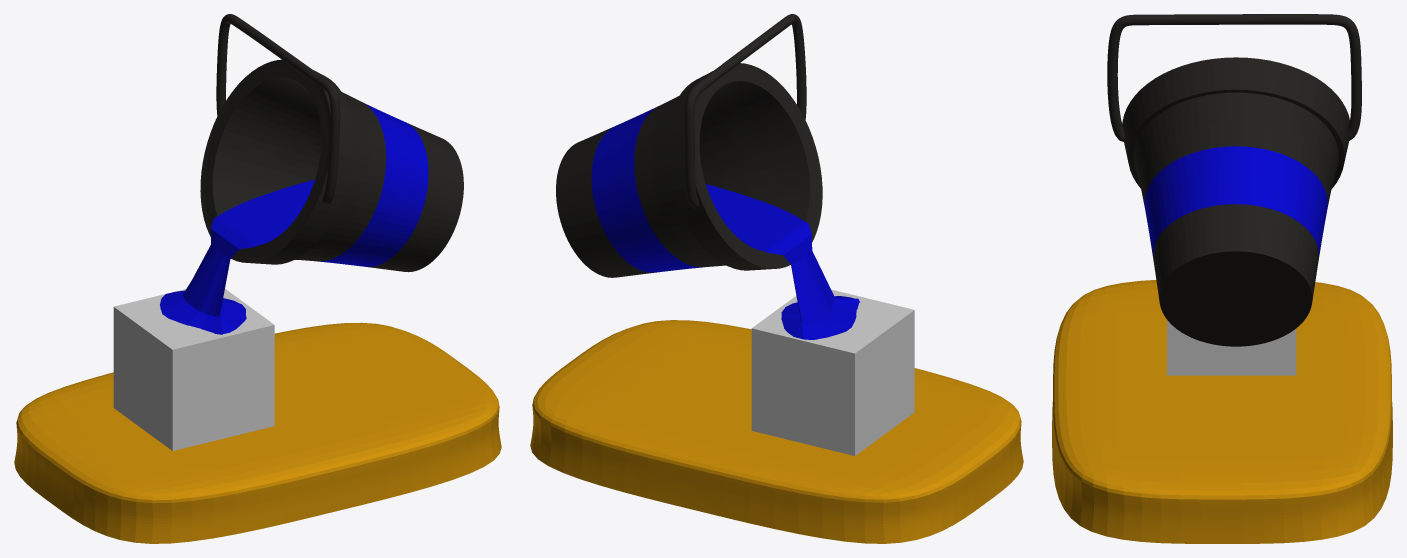
Rendered from fill_blue_btn.obj.
3 renders of one model, left to right at view 1: azimuth 30°, elevation 25°; view 2: azimuth 150°, elevation 25°; view 3: azimuth 270°, elevation 25°, orthographic. The views are drawn at different scales.
Visible parts, largest first — view 1: Cube, Cylinder, Cube.001, Cylinder.001; view 2: Cube, Cylinder, Cube.001, Cylinder.001; view 3: Cube, Cylinder, Cube.001.
Boxes of the visible parts, x1=… form: Cube: x1=14, y1=322, x2=501, y2=543; Cylinder: x1=200, y1=14, x2=463, y2=272; Cube.001: x1=113, y1=289, x2=274, y2=450; Cylinder.001: x1=160, y1=179, x2=314, y2=334; Cube: x1=530, y1=320, x2=1023, y2=543; Cylinder: x1=556, y1=14, x2=822, y2=277; Cube.001: x1=751, y1=289, x2=914, y2=455; Cylinder.001: x1=706, y1=184, x2=860, y2=339; Cube: x1=1052, y1=280, x2=1392, y2=543; Cylinder: x1=1107, y1=14, x2=1361, y2=346; Cube.001: x1=1167, y1=320, x2=1296, y2=375.
Size of the model in its own units: 17.54 by 16.18 by 11.5.
